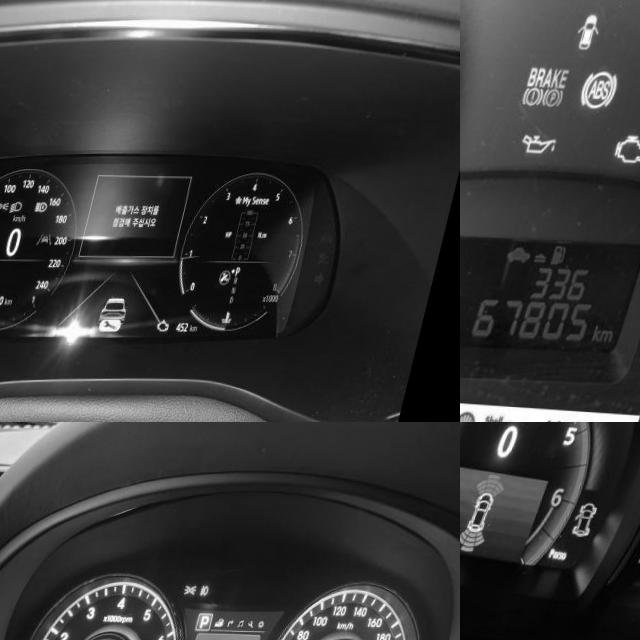Doors: (580, 11, 611, 50)
FrontFogLight: (211, 582, 223, 596)
Low beam: (21, 199, 36, 212)
SideLamp: (195, 582, 210, 596), (7, 200, 22, 210)
